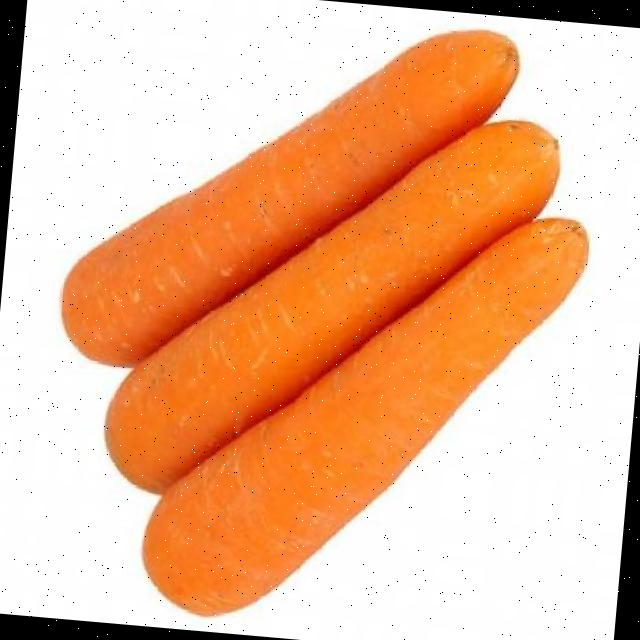carrot: (143, 219, 586, 614), (106, 121, 557, 491), (62, 29, 517, 365)
